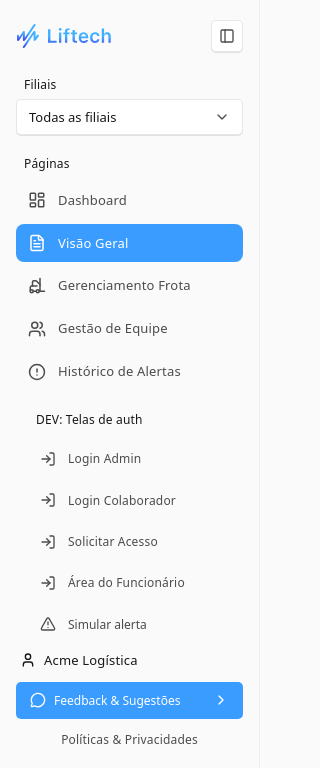
Test: Sidebar branch selector and company › shows only the icon, named by aria-label and title, when collapsed
Click the button named "colapsar menu" at (227, 36), box [211,20,243,52]
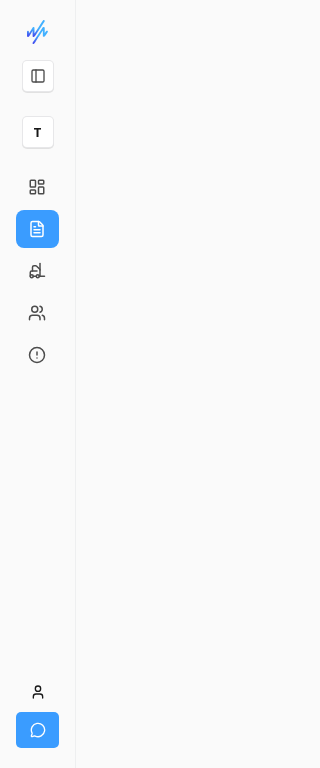
Check: the text "Acme Logística" is gone
